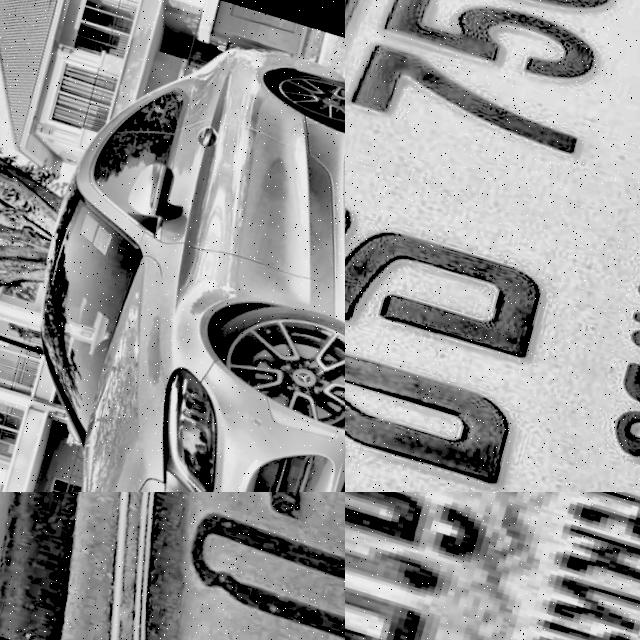license-plate: (345, 0, 640, 492), (0, 492, 345, 640), (345, 492, 640, 640)
